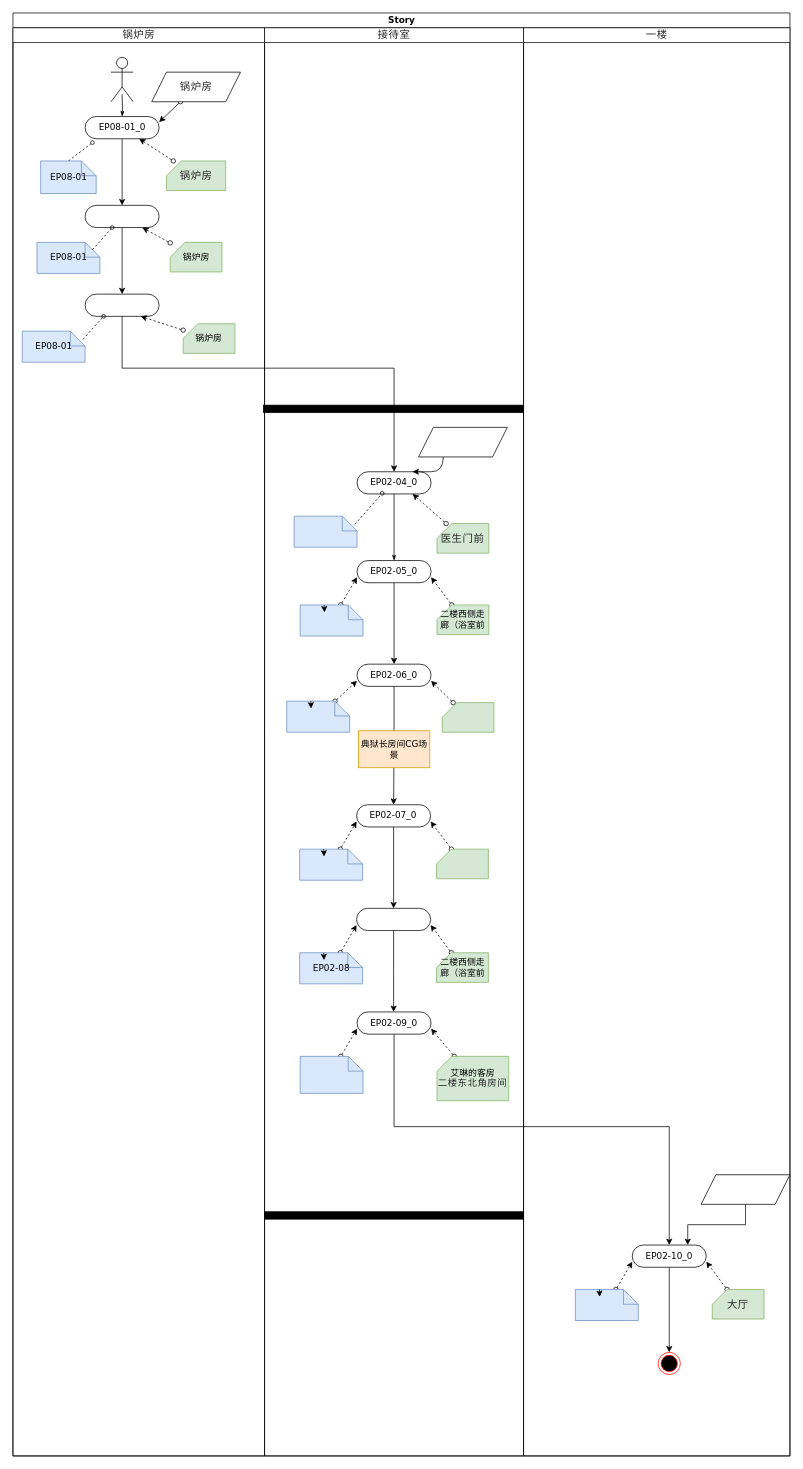
The diagram is 803 pixels wide and 1469 high, and some of its shapes have lost their labels. The centre of each missing label's shape, as x and y in pixels:
"EP02-02_0" goes at point 121,216.
"EP02-03_0" goes at point 121,304.
"EP02-04" goes at point 325,531.
"EP02-05" goes at point 331,620.
"EP02-06" goes at point 318,716.
"EP02-07" goes at point 331,864.
"EP02-08_0" goes at point 393,919.
"EP02-09" goes at point 331,1074.
"EP02-10" goes at point 606,1305.
"一楼南侧走廊" goes at point 745,1189.
"二楼西侧走廊" goes at point 462,442.
"典狱长房间" goes at point 467,717.
"典狱长房间门外" goes at point 462,863.
